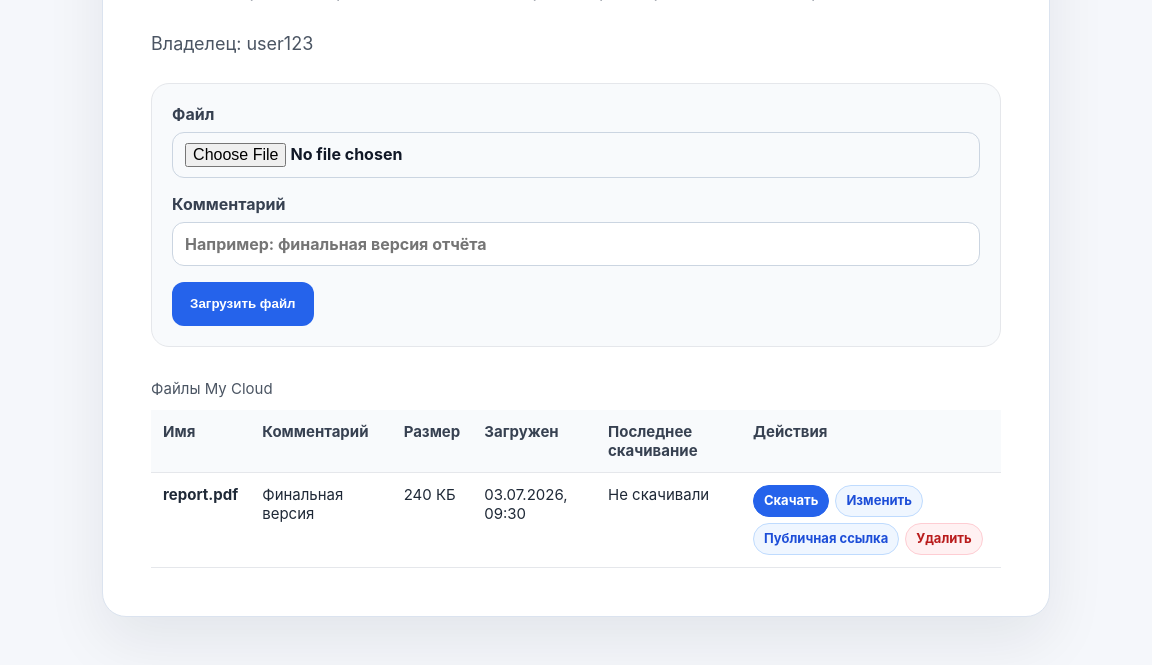
Test: App › cancels file metadata editing
(page scrolled)
Expected: the column heading "report.pdf" is shown, x1=151 y1=472 x2=250 y2=567
Click the button "Изменить" at (879, 501), box x1=835 y1=485 x2=923 y2=517
(page scrolled)
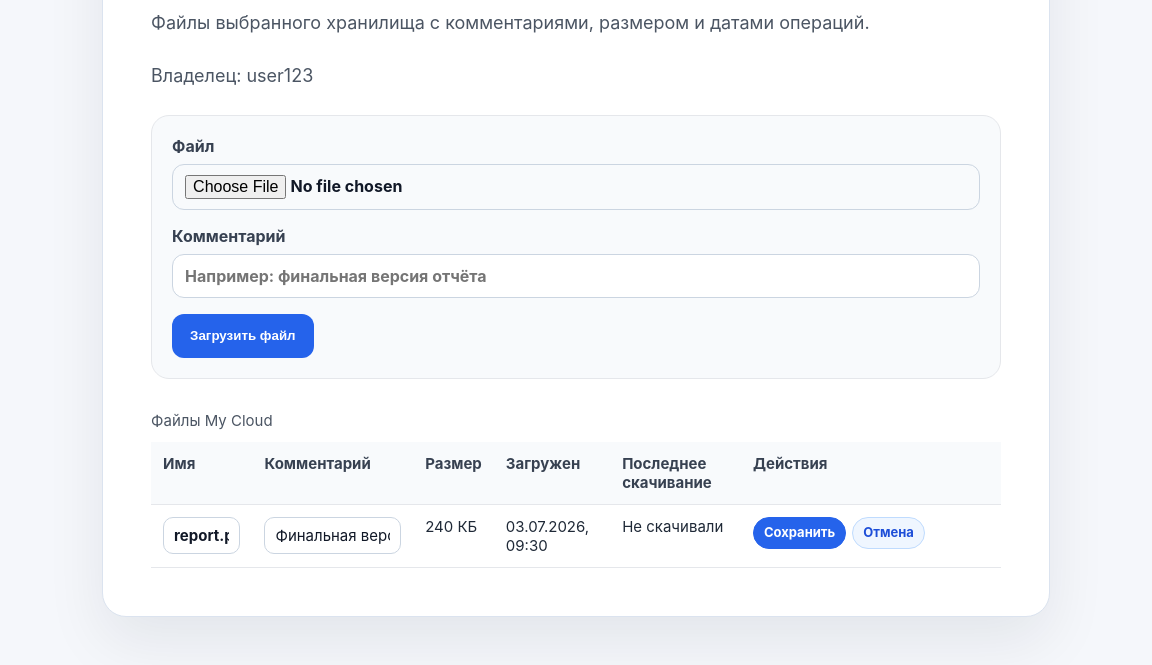
Replace the text in the field named "Новое имя файла report.pdf" with "draft.pdf" at (202, 535), box x1=163 y1=517 x2=240 y2=554
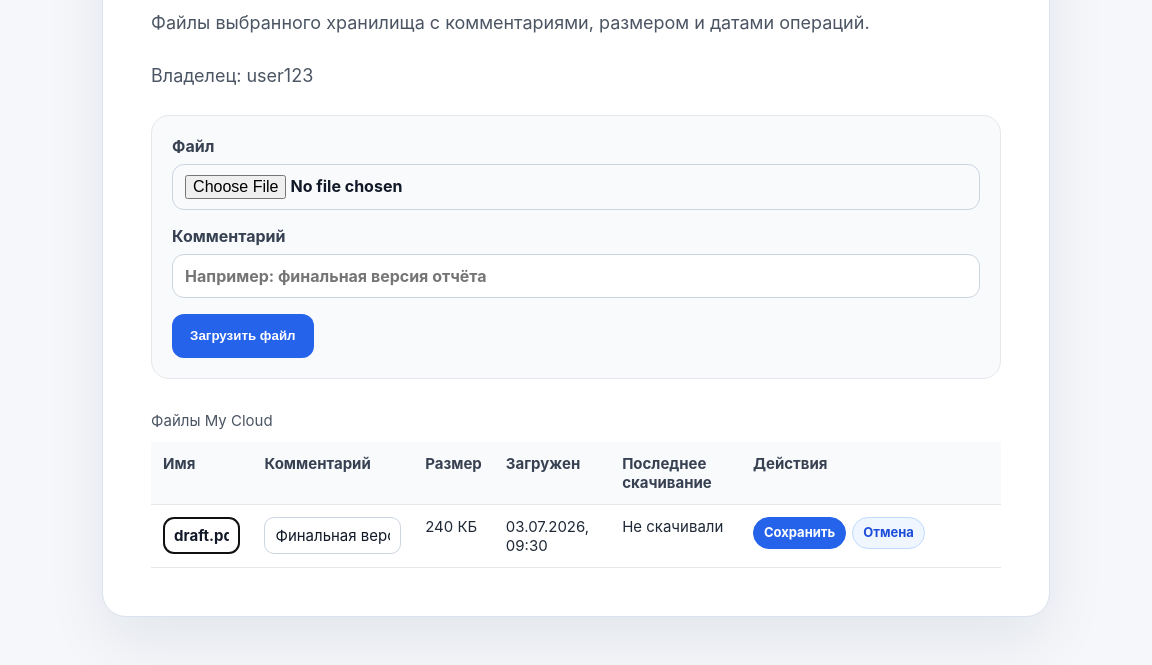
Click the button "Отмена" at (889, 533), box x1=852 y1=517 x2=925 y2=549
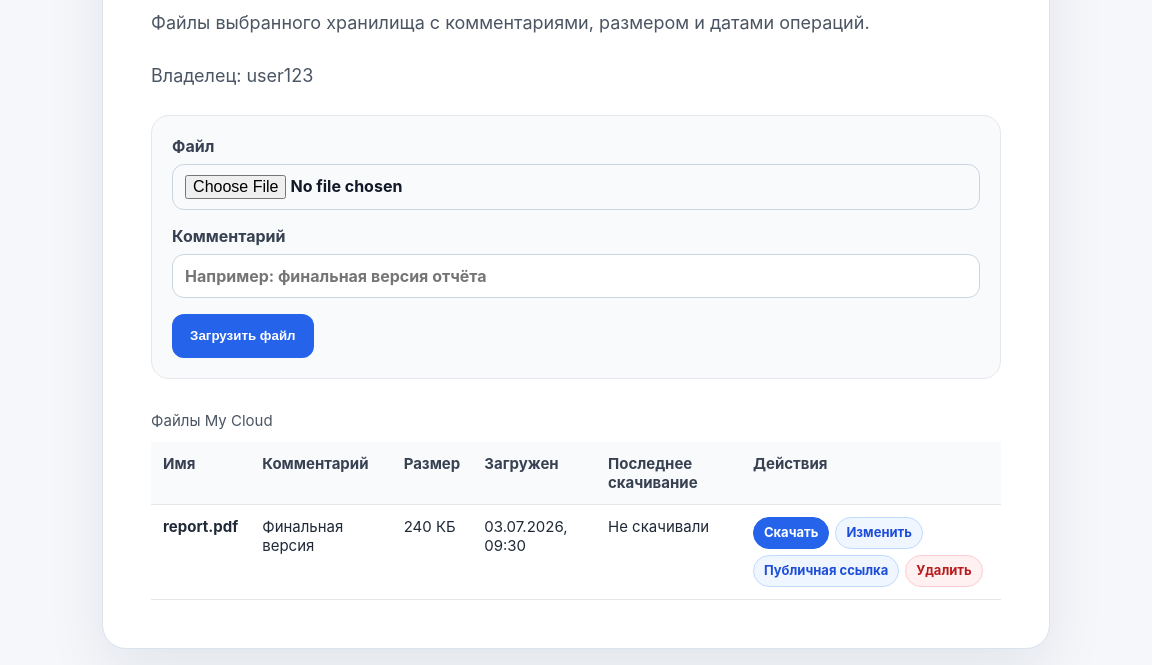
Result: the column heading "report.pdf" is shown at x1=151 y1=504 x2=250 y2=599
